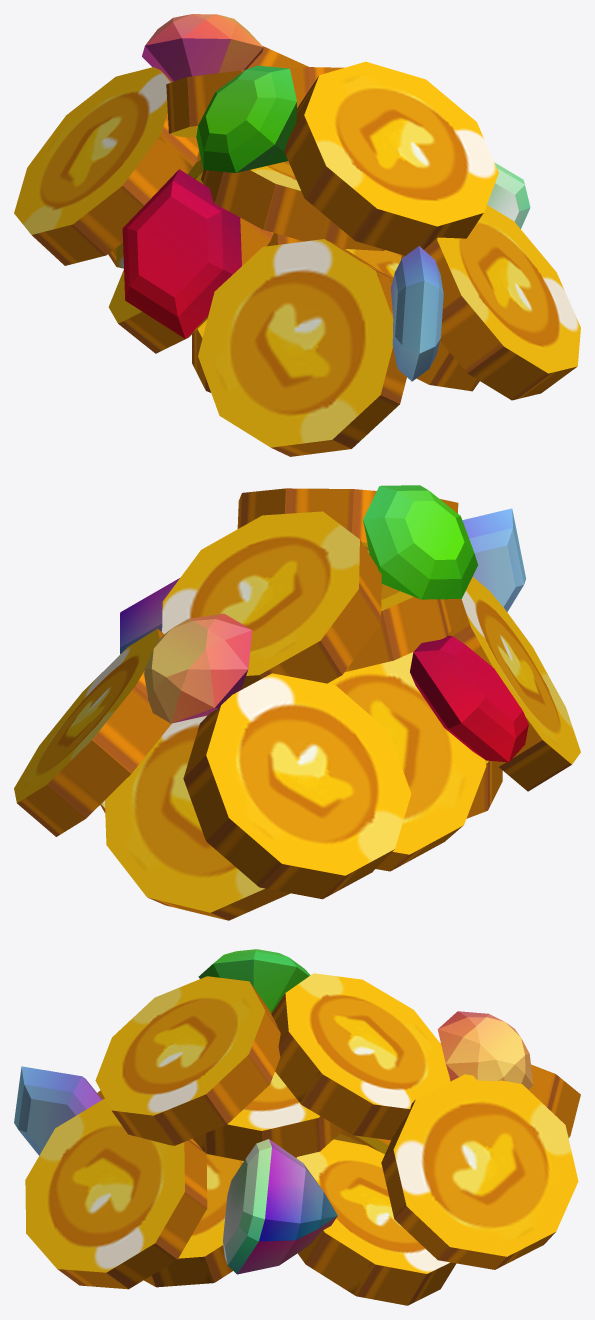
Rendered from Chest_treasure_coins_gems.fbx.
3 renders of one model, top to bottom at view 1: azimuth 30°, elevation 25°; view 2: azimuth 150°, elevation 25°; view 3: azimuth 270°, elevation 25°, orthographic. The views are drawn at different scales.
Visible parts, largest first — view 1: Chest_treasure_coins_gems; view 2: Chest_treasure_coins_gems; view 3: Chest_treasure_coins_gems.
Boxes of the visible parts, x1=… form: Chest_treasure_coins_gems: x1=14, y1=14, x2=580, y2=456; Chest_treasure_coins_gems: x1=14, y1=485, x2=580, y2=920; Chest_treasure_coins_gems: x1=14, y1=949, x2=580, y2=1305.
Bounding box in the file's own units: 101 × 78.17 × 143.
